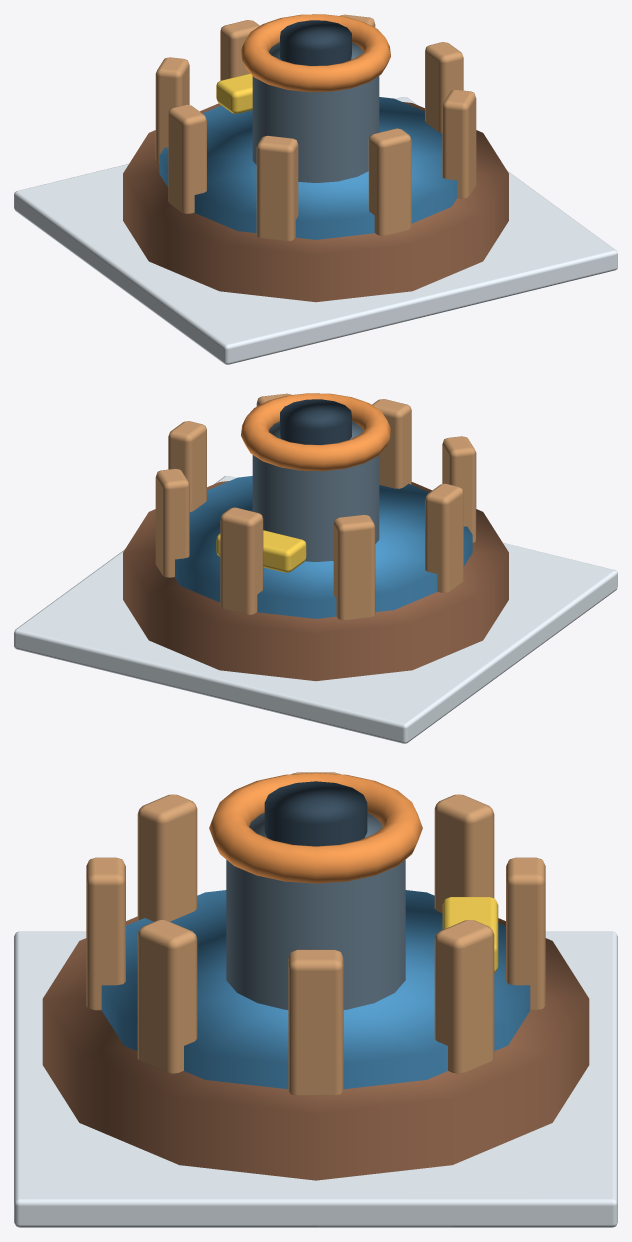
The model's file is defense_platform.glb.
3 renders of one model, top to bottom at view 1: azimuth 30°, elevation 25°; view 2: azimuth 150°, elevation 25°; view 3: azimuth 270°, elevation 25°, orthographic. The views are drawn at different scales.
Parts seen in each view (by area): view 1: defense_platform; view 2: defense_platform; view 3: defense_platform.
Part boxes in pixels (<box>): defense_platform: <box>14,14,617,364</box>; defense_platform: <box>14,393,617,743</box>; defense_platform: <box>14,772,617,1227</box>.
Bounding box in the file's own units: 3.25 × 1.62 × 3.05.
